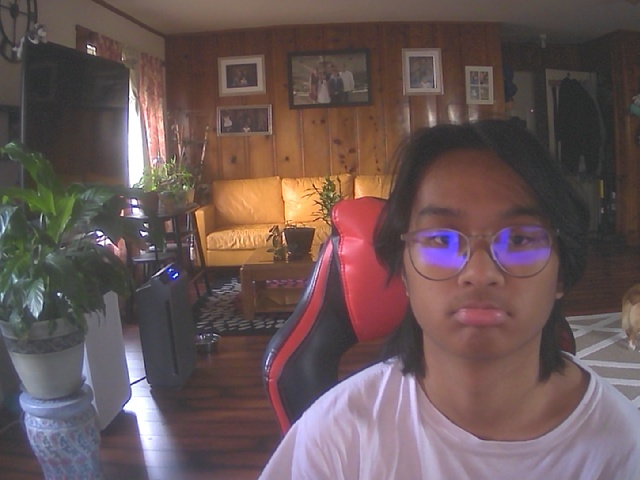sad: (397, 132, 570, 370)
